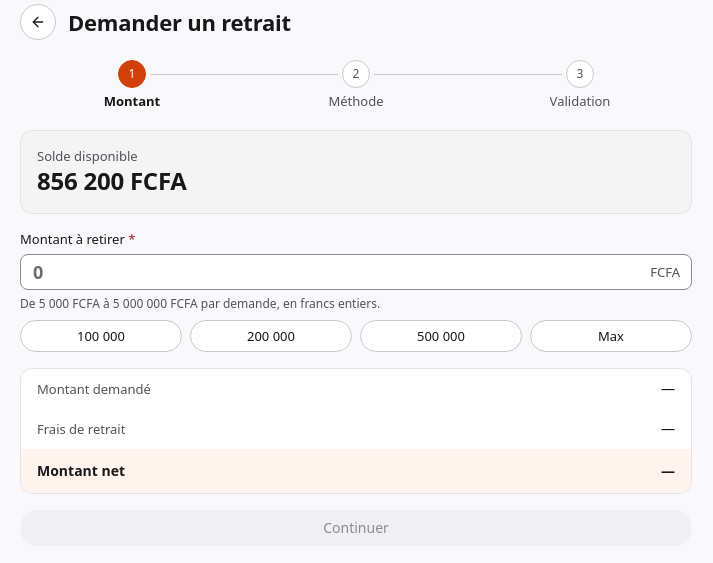
it: asking for a withdrawal › shows the fee and the net the server quoted, not the rate times the amount
This screenshot has width=713, height=563.
Expected: the button "Continuer" is disabled, x1=20 y1=510 x2=692 y2=546
Step 1. Type "1234567" into the field labelled "Montant à retirer *" → (356, 272), box x1=20 y1=254 x2=692 y2=290
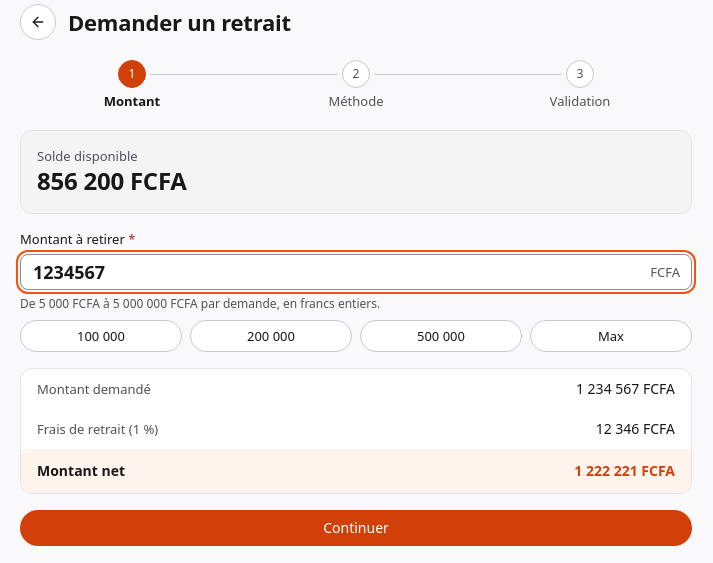
Now the button "Continuer" is enabled, box x1=20 y1=510 x2=692 y2=546
